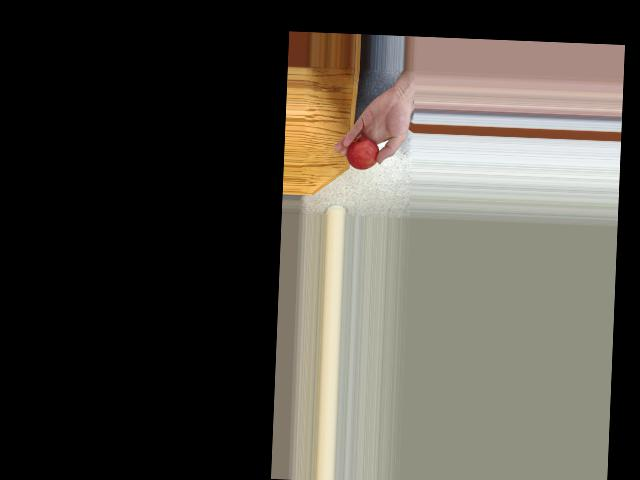apple: (345, 132, 380, 171)
